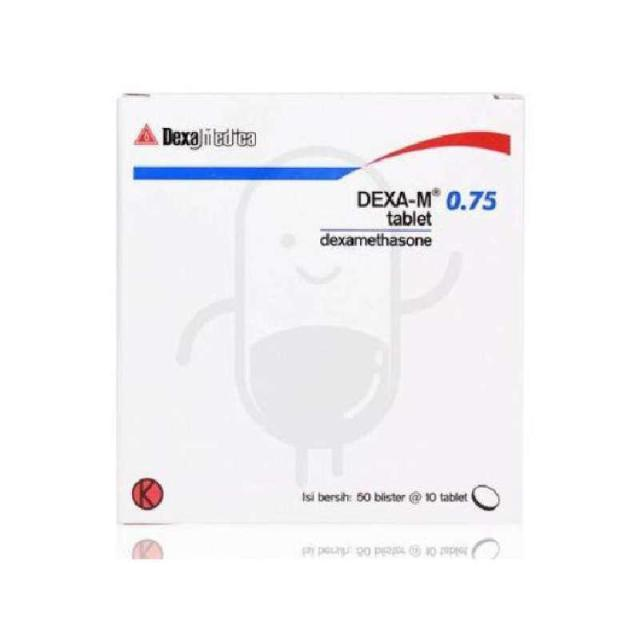drug-name: (356, 186, 496, 212)
